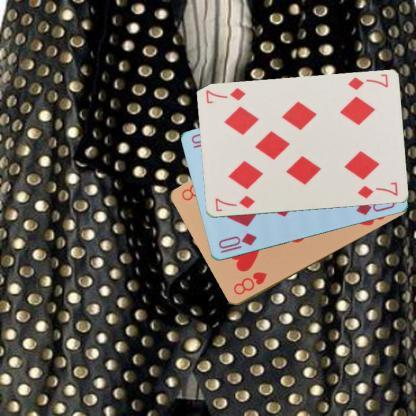10d: (216, 230, 258, 255)
7d: (212, 193, 256, 213), (345, 72, 389, 92)
8h: (231, 269, 268, 297)
